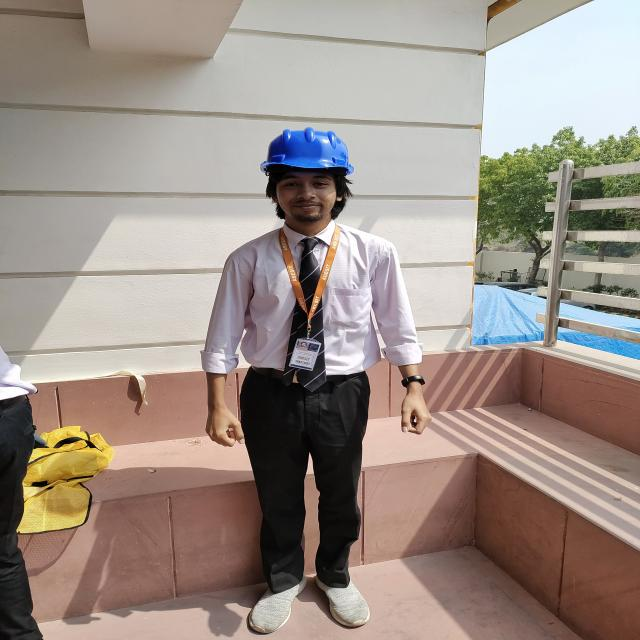no jacket: (206, 130, 425, 627)
